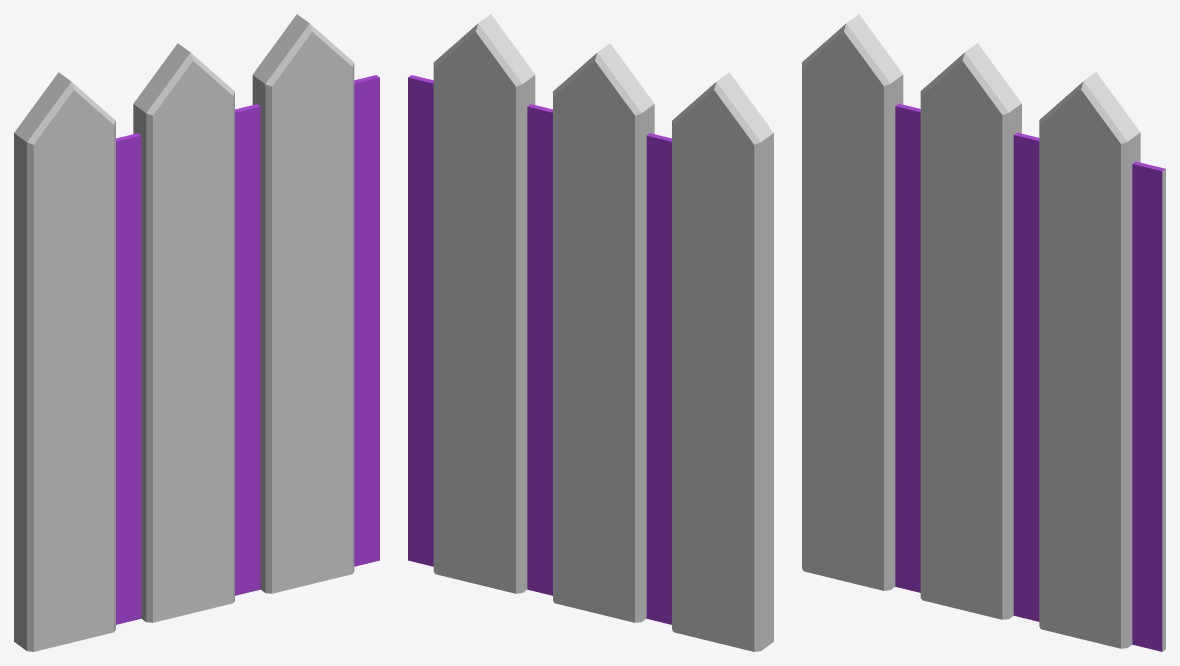
The model's file is mesh_Rembarde.fbx.
The picture shows the model from 3 angles, left to right: view 1: azimuth 30°, elevation 25°; view 2: azimuth 150°, elevation 25°; view 3: azimuth 330°, elevation 25°; orthographic projection.
Visible parts, largest first — view 1: Cube; view 2: Cube; view 3: Cube.
Boxes of the visible parts, x1,y1,x2,y2 form: Cube: (14, 14, 379, 651); Cube: (408, 14, 773, 651); Cube: (802, 14, 1165, 651).
Bounding box in the file's own units: 147 × 220 × 12.65.
